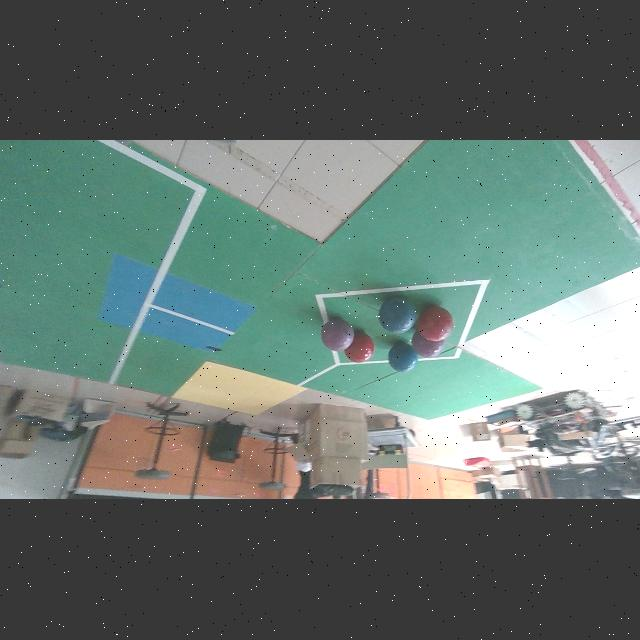B: (378, 298, 417, 334), (389, 343, 418, 373)
P: (321, 318, 355, 352), (411, 331, 443, 359)
R: (418, 306, 453, 342), (344, 333, 375, 363)
